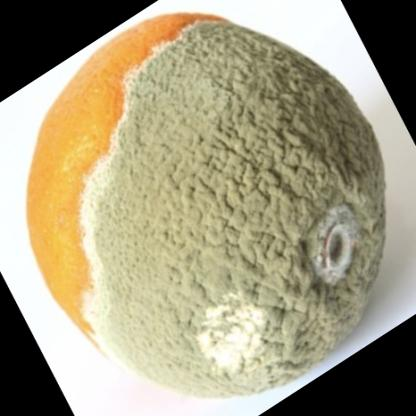rotten: (29, 13, 387, 398)
